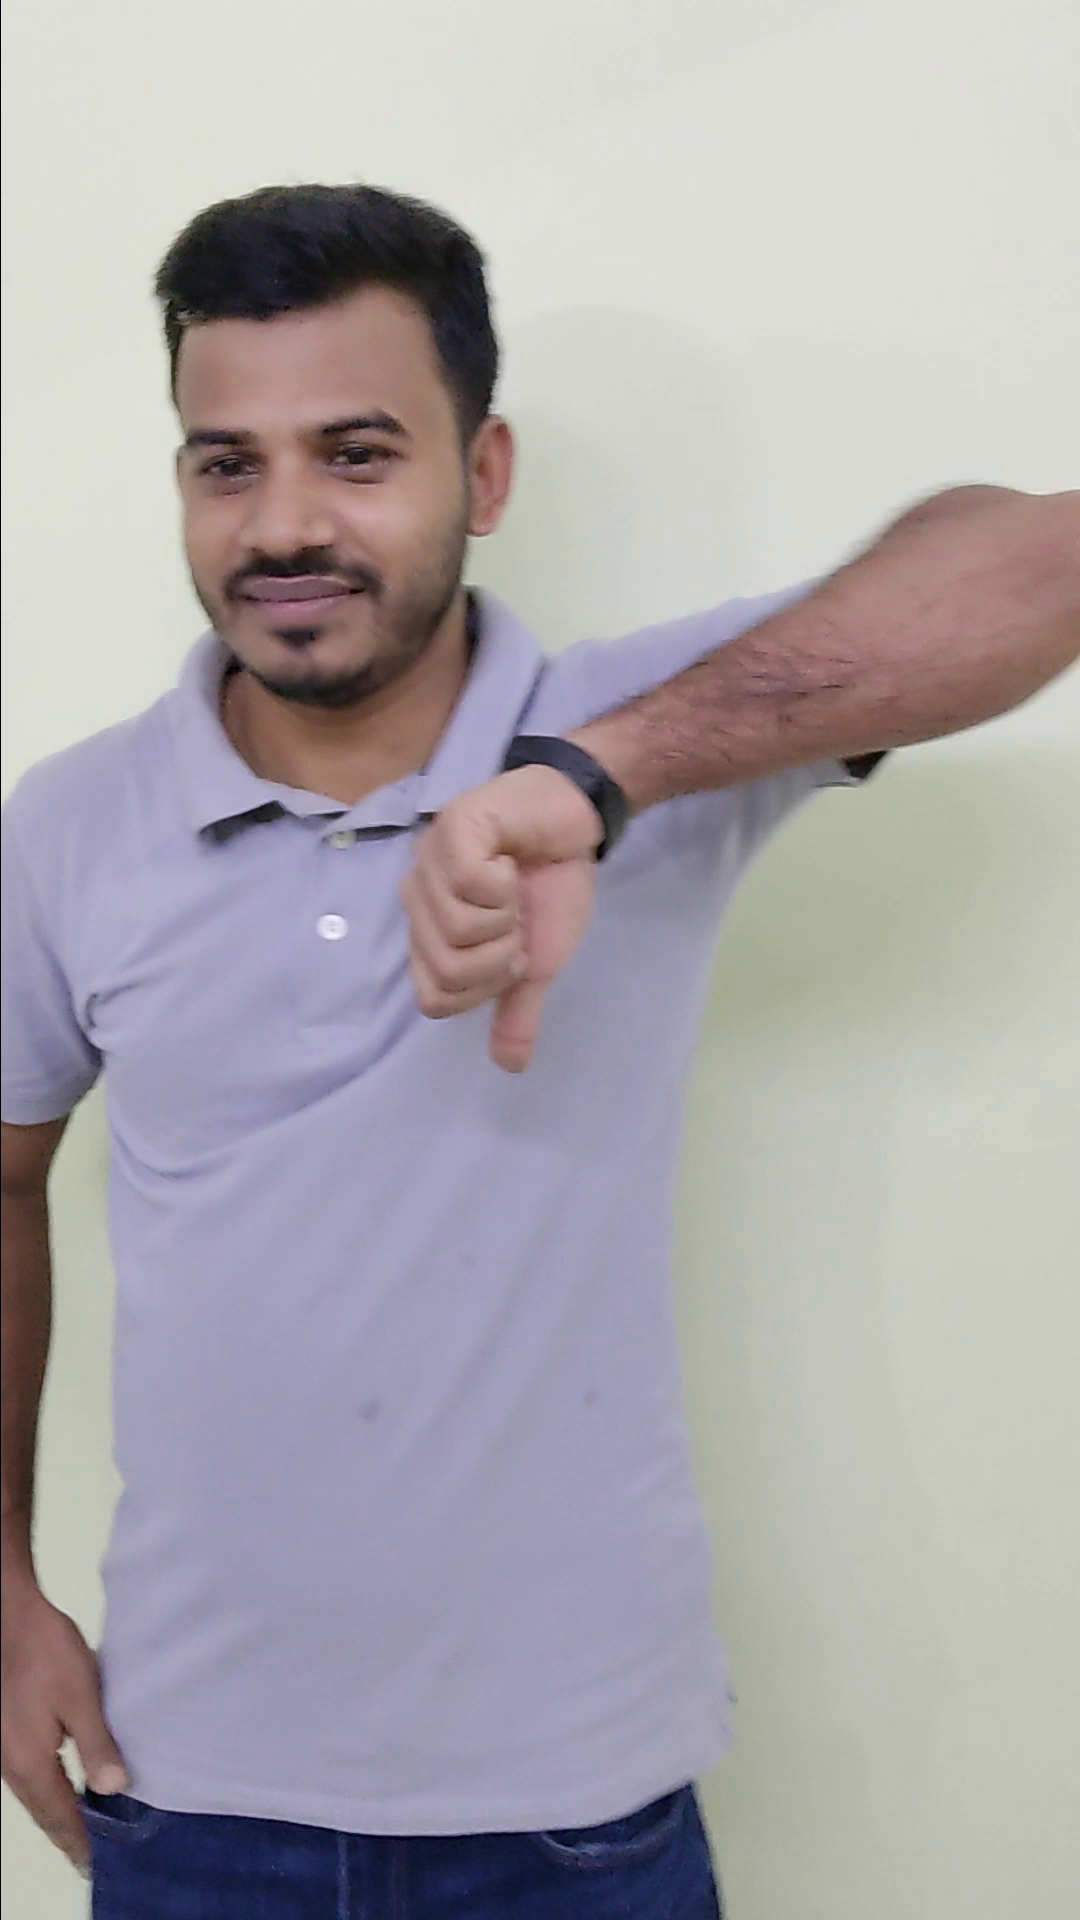Dislike: (386, 727, 629, 1087)
None: (3, 1556, 150, 1882)
